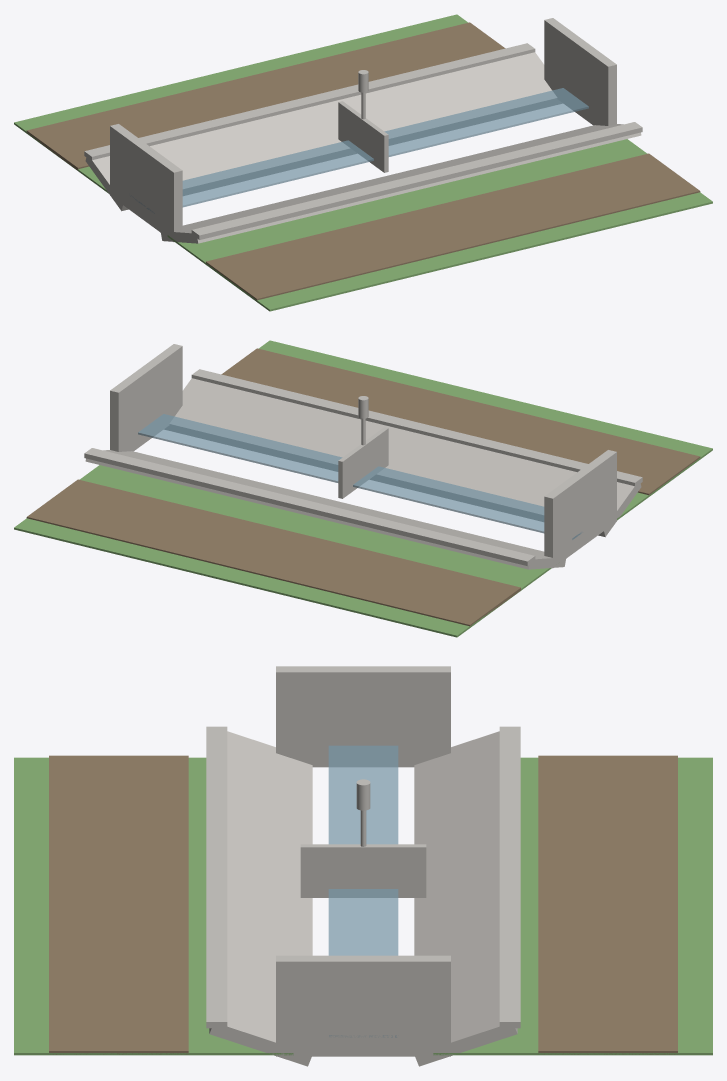
The model's file is irrigation_canal.glb.
The picture shows the model from 3 angles, top to bottom: view 1: azimuth 30°, elevation 25°; view 2: azimuth 150°, elevation 25°; view 3: azimuth 270°, elevation 25°; orthographic projection. The views are drawn at different scales.
Visible parts, largest first — view 1: soil_r, bank_l, ground_r, soil_l, water, edge_r, gate_frame_l, ground_l, gate_frame_r, bank_r, edge_l, sluice; view 2: soil_l, bank_r, ground_l, soil_r, water, edge_l, ground_r, gate_frame_l, gate_frame_r, bank_l, edge_r, sluice; view 3: soil_l, soil_r, bank_r, bank_l, gate_frame_r, ground_l, ground_r, gate_frame_l, water, sluice, edge_l, edge_r.
Boxes of the visible parts, x1,y1,x2,y2 form: soil_r: (206,153,700,300); bank_l: (85,52,562,211); ground_r: (167,139,712,311); soil_l: (26,22,505,170); water: (130,88,588,213); edge_r: (191,122,642,239); gate_frame_l: (110,124,182,242); ground_l: (14,14,467,193); gate_frame_r: (544,18,616,125); bank_r: (161,124,641,243); edge_l: (84,43,535,160); sluice: (338,101,388,172); soil_l: (26,479,520,626); bank_r: (164,378,641,537); ground_l: (14,465,551,637); soil_r: (221,348,700,495); water: (138,414,582,539); edge_l: (84,448,535,565); ground_r: (259,340,712,520); gate_frame_l: (544,450,616,568); gate_frame_r: (110,344,182,451); bank_l: (85,450,566,569); edge_r: (191,369,642,486); sluice: (338,427,388,498); soil_l: (538,755,677,1054); soil_r: (49,755,188,1054); bank_r: (209,731,312,1066); bank_l: (414,731,517,1066); gate_frame_r: (276,955,450,1056); ground_l: (433,757,712,1055); ground_r: (14,757,293,1055); gate_frame_l: (276,666,450,767); water: (328,745,398,1037); sluice: (300,844,426,897); edge_l: (499,726,520,1028); edge_r: (206,726,227,1028).
Bounding box in the file's own units: 10 × 2.16 × 10.
